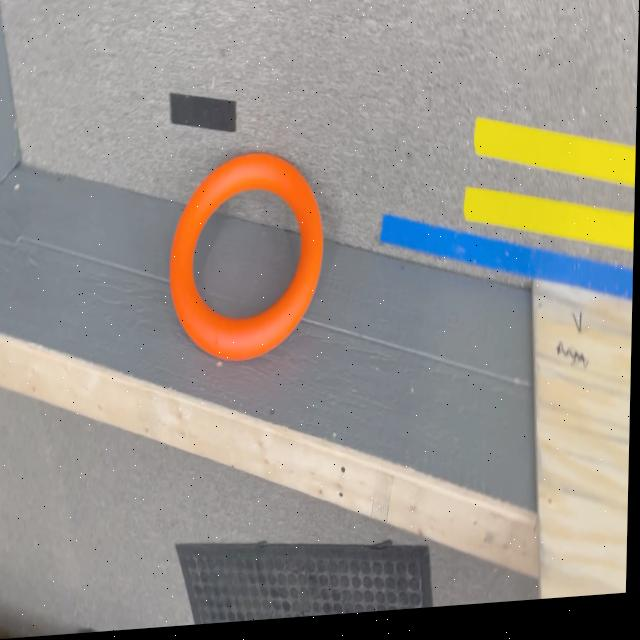note: (169, 150, 326, 368)
